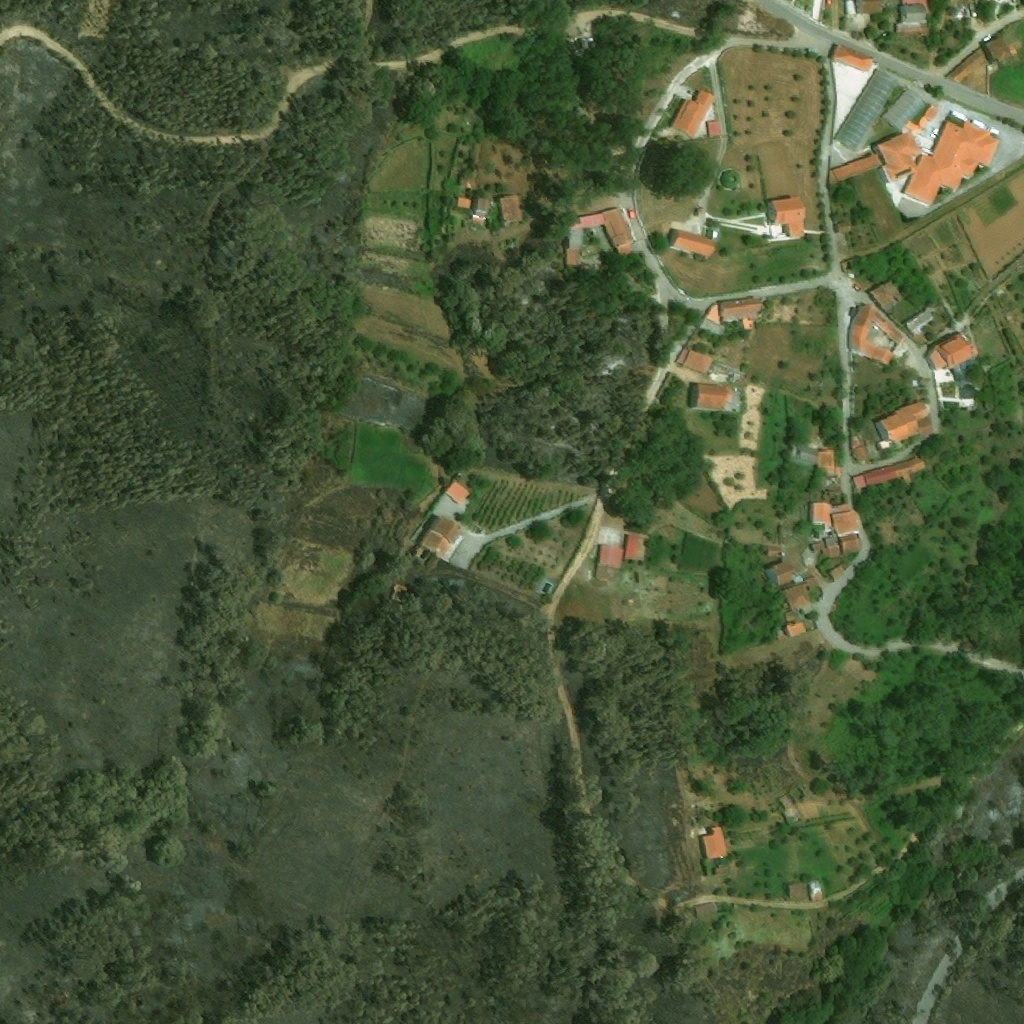0 no-damage: (828, 88, 998, 207), (833, 68, 896, 151), (563, 207, 633, 267), (846, 303, 906, 368), (875, 401, 934, 451), (810, 501, 857, 558), (851, 456, 925, 490), (668, 89, 715, 140), (782, 577, 818, 637), (924, 333, 974, 371), (703, 298, 762, 330), (416, 517, 459, 559), (766, 196, 806, 237), (790, 443, 835, 476), (669, 227, 716, 258), (947, 48, 988, 83), (895, 0, 932, 38), (983, 37, 1017, 75), (829, 43, 874, 71), (867, 279, 902, 312), (692, 383, 732, 411), (698, 826, 726, 861), (764, 561, 803, 586), (681, 350, 712, 376), (904, 308, 933, 335), (497, 195, 522, 225), (596, 543, 623, 569), (442, 479, 468, 506), (470, 197, 490, 224), (850, 435, 869, 462), (623, 533, 638, 561), (692, 901, 716, 917), (786, 882, 807, 900), (809, 881, 822, 902), (706, 121, 721, 139), (829, 564, 845, 580), (841, 538, 858, 553), (455, 197, 472, 210), (766, 545, 783, 556), (458, 178, 472, 190)
3 destroyed: (388, 584, 403, 602)
4 un-classified: (839, 0, 888, 33)
